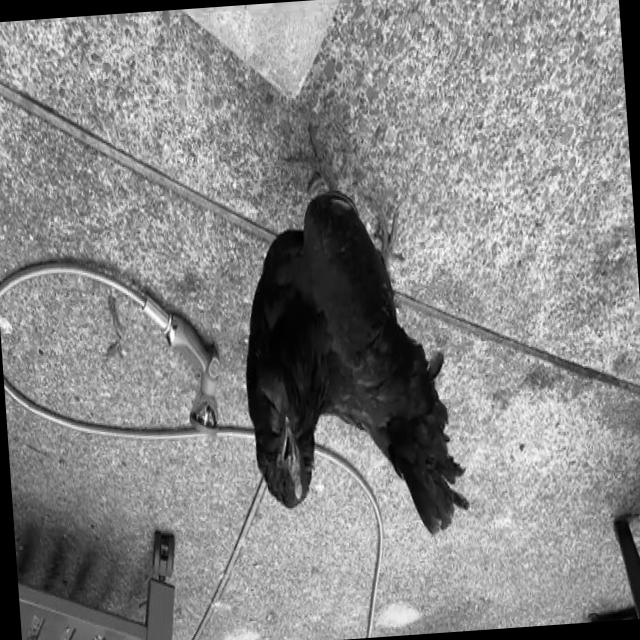Breathing: (226, 167, 469, 567)
